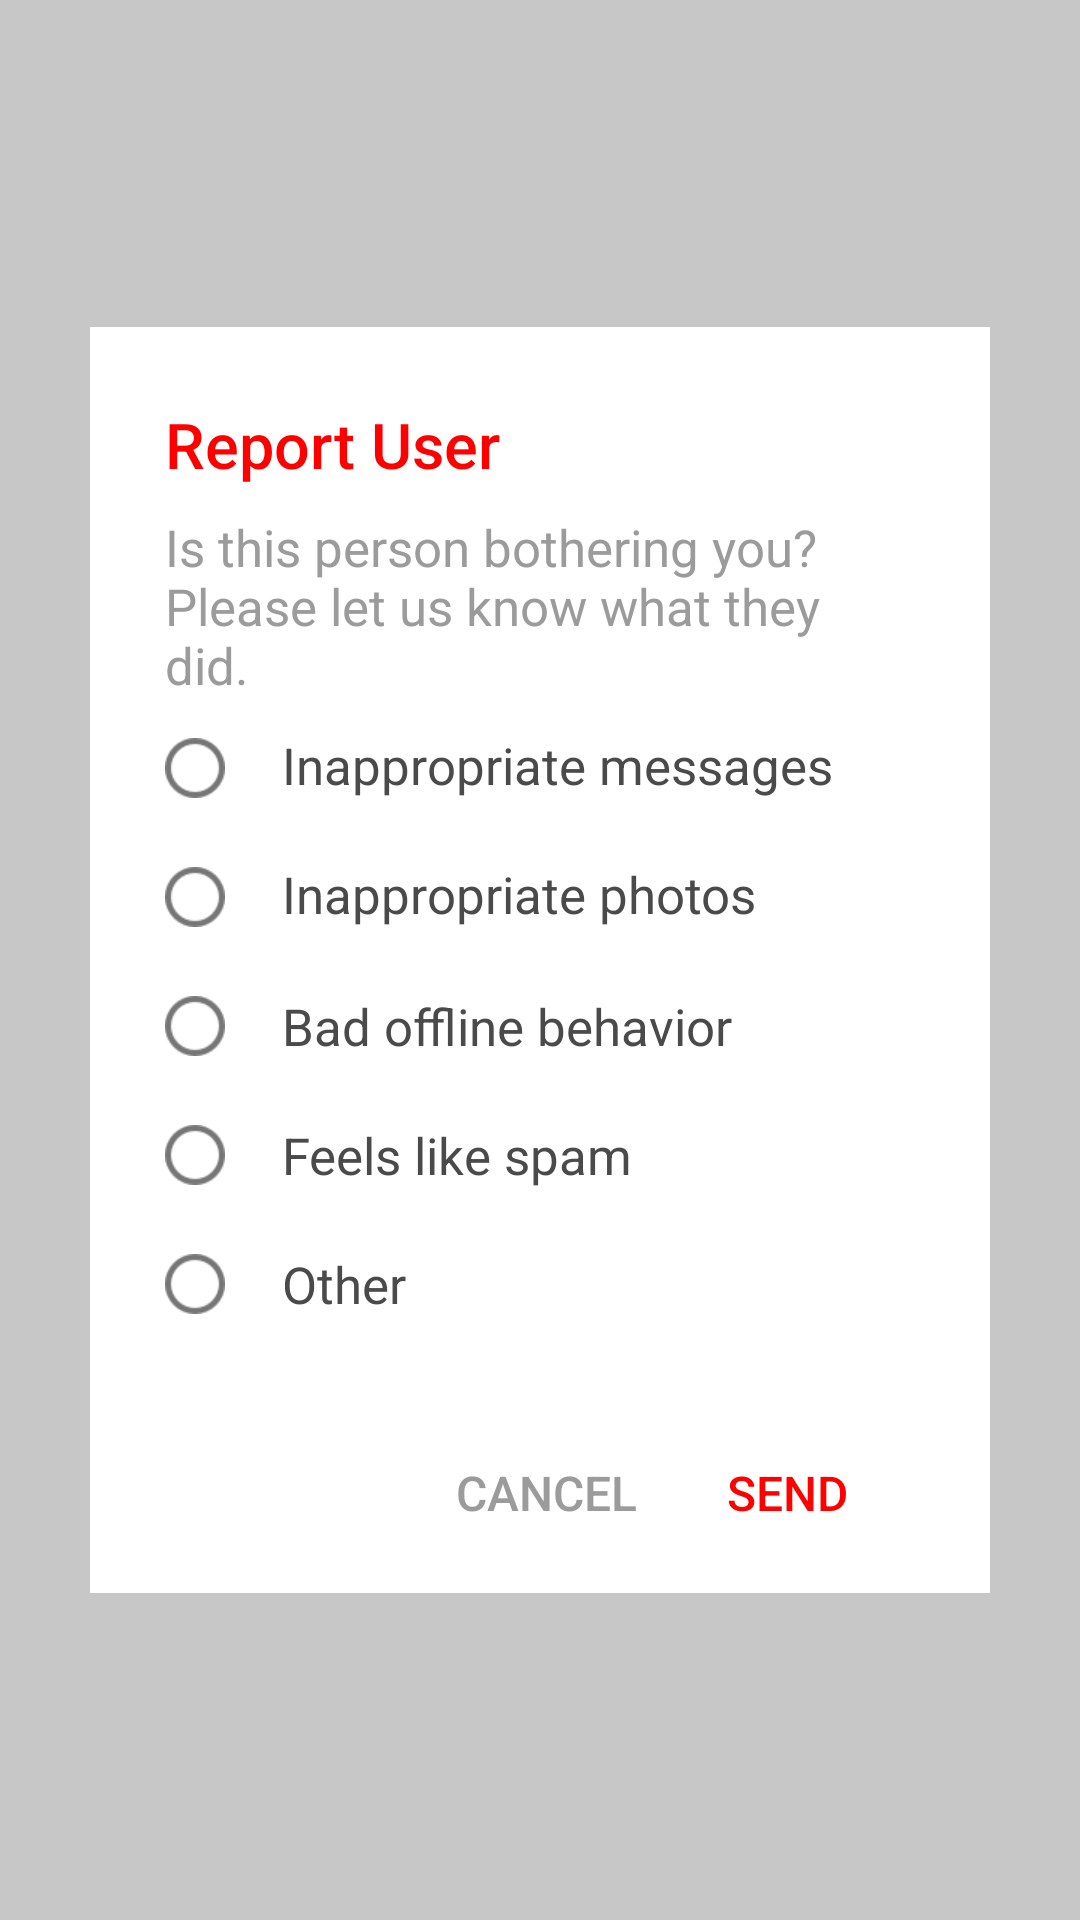

Where to tap for icons on this 1080 × 1920 app screen, as (x=x, y=y):
radio uncheck: (x=195, y=768), (x=195, y=897), (x=195, y=1026), (x=195, y=1155), (x=195, y=1284)
